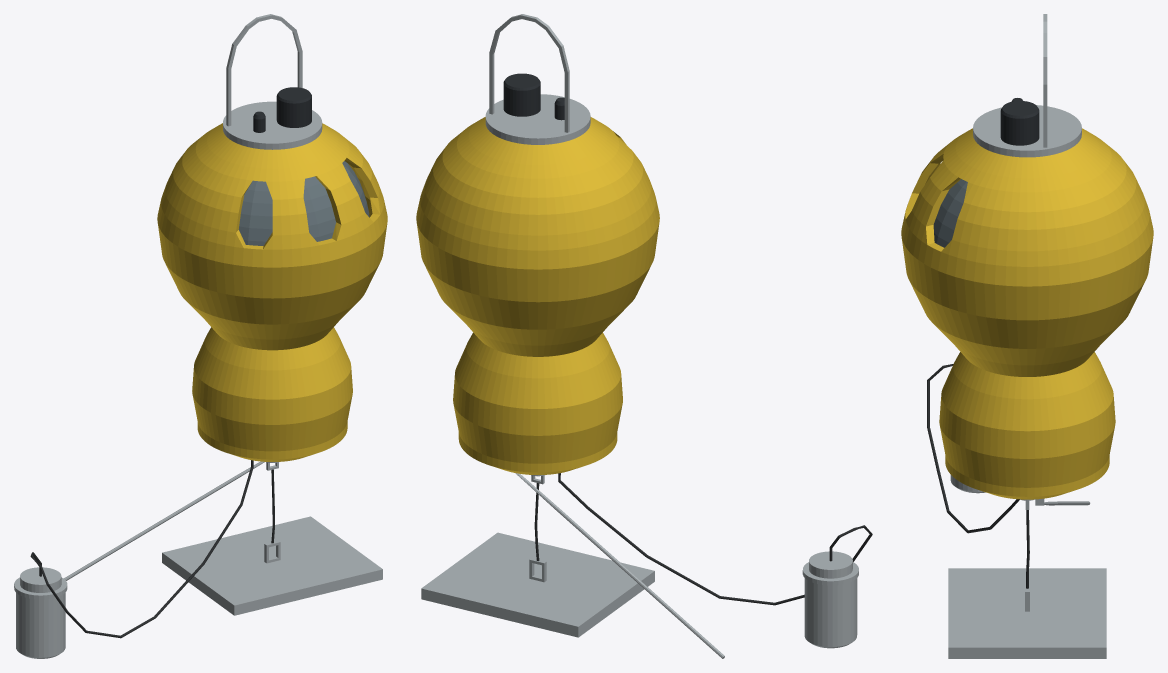
3 views of the same model, side by side, from view 1: azimuth 30°, elevation 25°; view 2: azimuth 150°, elevation 25°; view 3: azimuth 270°, elevation 25° (orthographic). The views are drawn at different scales.
Visible parts, largest first — view 1: 01_hollow_two_bulge_cover_three_real_windows, 08_seafloor_anchor_plate, 15_separate_grounded_geophone, 02_17inch_electronics_sphere_hidden_flat_bearing, 04_top_instrument_plate, 05_acoustic_recovery_transducer, 07_lifting_bail, 16_loose_signal_cable, 14_lowered_deployment_arm; view 2: 01_hollow_two_bulge_cover_three_real_windows, 08_seafloor_anchor_plate, 15_separate_grounded_geophone, 04_top_instrument_plate, 05_acoustic_recovery_transducer, 07_lifting_bail, 16_loose_signal_cable, 14_lowered_deployment_arm; view 3: 01_hollow_two_bulge_cover_three_real_windows, 08_seafloor_anchor_plate, 04_top_instrument_plate, 05_acoustic_recovery_transducer, 02_17inch_electronics_sphere_hidden_flat_bearing, 16_loose_signal_cable, 07_lifting_bail.
Part boxes in pixels (box(x1,y1,x2,y2)): 01_hollow_two_bulge_cover_three_real_windows: box(157, 123, 387, 461); 08_seafloor_anchor_plate: box(162, 516, 382, 615); 15_separate_grounded_geophone: box(14, 567, 67, 658); 02_17inch_electronics_sphere_hidden_flat_bearing: box(238, 161, 369, 245); 04_top_instrument_plate: box(223, 101, 322, 149); 05_acoustic_recovery_transducer: box(276, 87, 311, 127); 07_lifting_bail: box(226, 14, 302, 126); 16_loose_signal_cable: box(30, 460, 253, 638); 14_lowered_deployment_arm: box(64, 461, 264, 580); 01_hollow_two_bulge_cover_three_real_windows: box(416, 117, 659, 474); 08_seafloor_anchor_plate: box(421, 532, 654, 637); 15_separate_grounded_geophone: box(802, 551, 858, 648); 04_top_instrument_plate: box(485, 94, 590, 144); 05_acoustic_recovery_transducer: box(503, 73, 540, 116); 07_lifting_bail: box(489, 14, 569, 132); 16_loose_signal_cable: box(558, 473, 872, 605); 14_lowered_deployment_arm: box(515, 473, 724, 658); 01_hollow_two_bulge_cover_three_real_windows: box(901, 128, 1153, 499); 08_seafloor_anchor_plate: box(948, 568, 1106, 658); 04_top_instrument_plate: box(973, 105, 1081, 157); 05_acoustic_recovery_transducer: box(1000, 101, 1039, 145); 02_17inch_electronics_sphere_hidden_flat_bearing: box(933, 179, 967, 247); 16_loose_signal_cable: box(927, 364, 1019, 533); 07_lifting_bail: box(1043, 14, 1047, 147).
Size of the model in its own units: 0.964 by 1.34 by 0.51.
